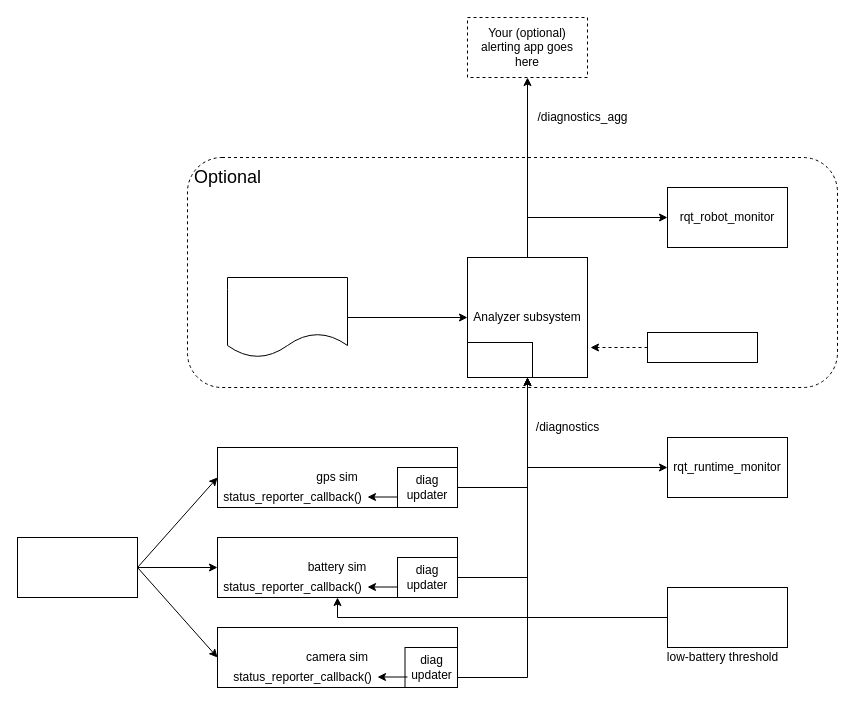
Some shapes in this 855 by 705 pixel diagram are drawn without their labels. Here are the shapes that lost their labels. From the top down, the centre of each, then its label:
At (x=287, y=317): "Analyzer Config".
At (x=499, y=360): "Generic Analyzer".
At (x=702, y=347): "gps_battery custom analyzer plugin".
At (x=77, y=567): "100Hz sin generator".
At (x=727, y=617): "rqt_dynamic_reconfig".
